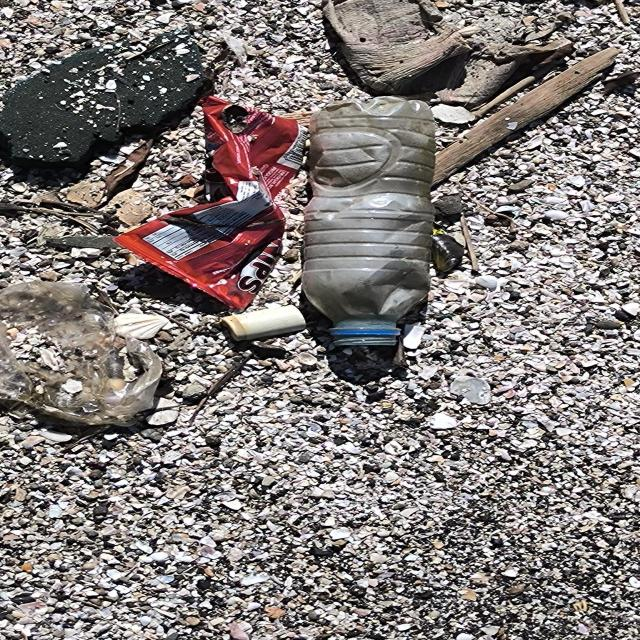plastic_waste: (114, 94, 311, 314), (308, 99, 438, 347)
